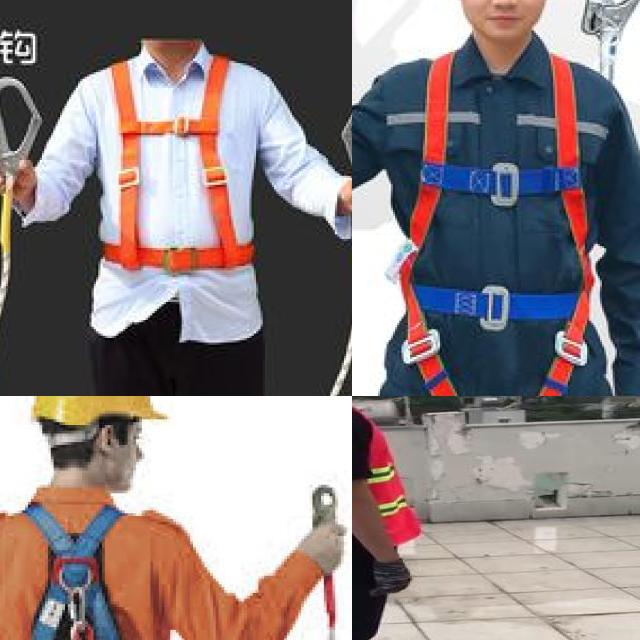Harness: (388, 45, 597, 396), (98, 52, 256, 275), (23, 503, 124, 640)
hand_glove: (371, 559, 417, 598)
person: (352, 396, 441, 640)
vest: (352, 396, 422, 552)
